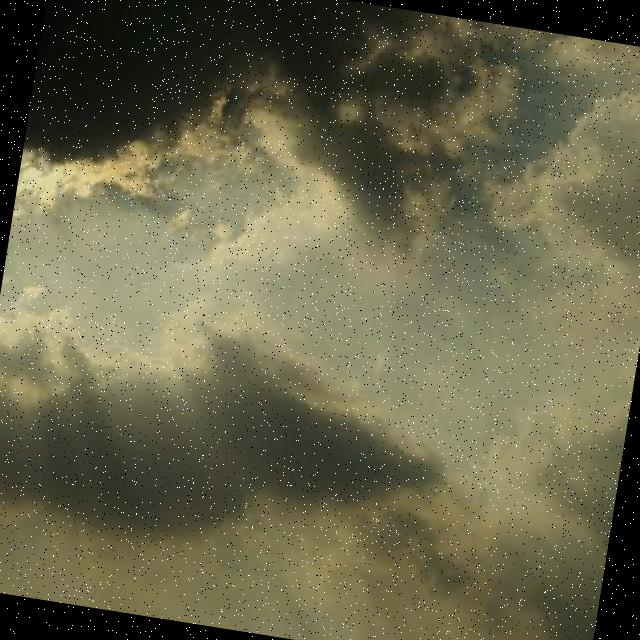As: (1, 264, 491, 621)
